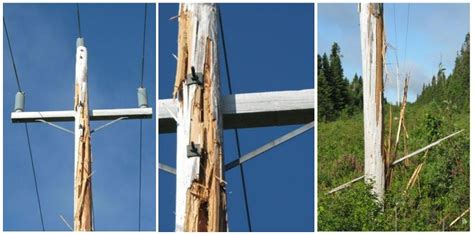pole: (11, 30, 155, 235), (161, 5, 269, 235), (333, 3, 423, 216)
